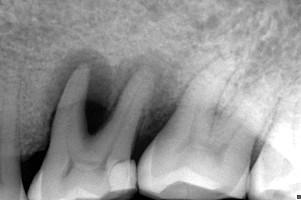Dental Caries: (42, 51, 179, 143)
